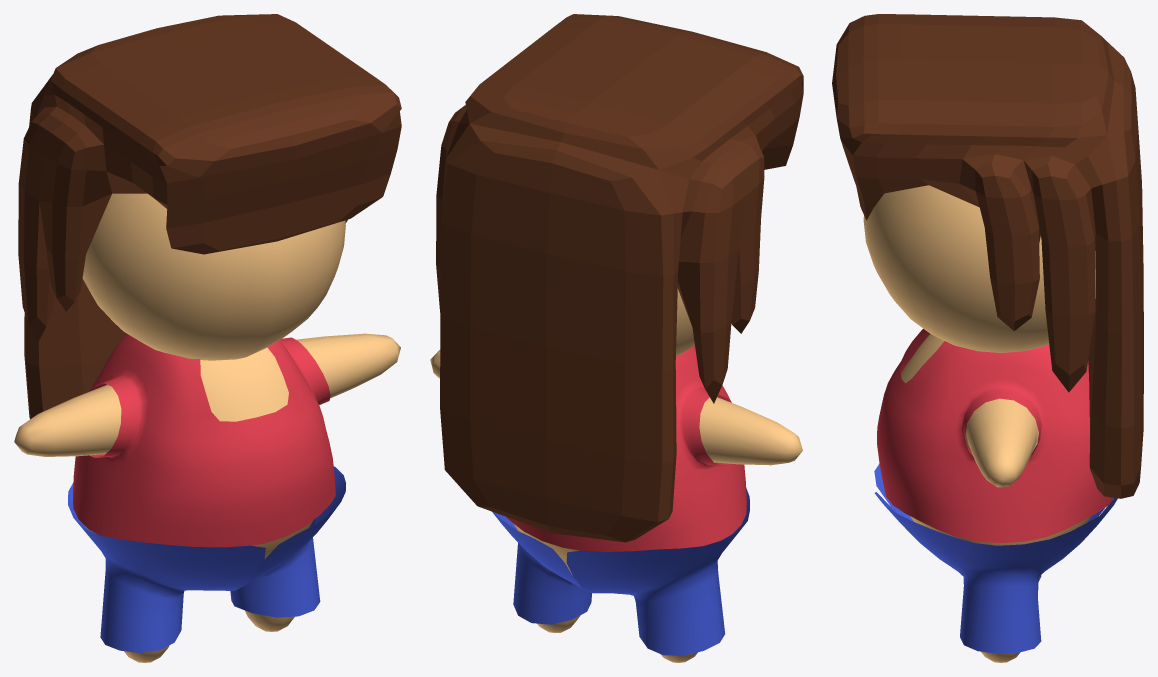
The model's file is Picnic Mom.fbx.
The picture shows the model from 3 angles, left to right: view 1: azimuth 30°, elevation 25°; view 2: azimuth 150°, elevation 25°; view 3: azimuth 270°, elevation 25°; orthographic projection. The views are drawn at different scales.
Visible parts, largest first — view 1: Hair, Shirt, Head.002, Pants, New Body.001; view 2: Hair, Pants, Shirt, New Body.001, Head.002; view 3: Hair, Shirt, Head.002, Pants, New Body.001.
Part boxes in pixels (<box>): Hair: <box>18,14,401,419</box>; Shirt: <box>73,334,335,547</box>; Head.002: <box>82,193,345,360</box>; Pants: <box>68,466,345,652</box>; New Body.001: <box>14,333,400,662</box>; Hair: <box>436,14,803,542</box>; Pants: <box>492,488,749,655</box>; Shirt: <box>506,346,746,551</box>; New Body.001: <box>430,350,802,662</box>; Head.002: <box>676,288,694,356</box>; Hair: <box>832,14,1143,498</box>; Shirt: <box>877,328,1113,542</box>; Head.002: <box>863,185,1095,352</box>; Pants: <box>874,463,1117,653</box>; New Body.001: <box>900,334,1091,662</box>.
Size of the model in its own units: 301 by 436 by 216.
